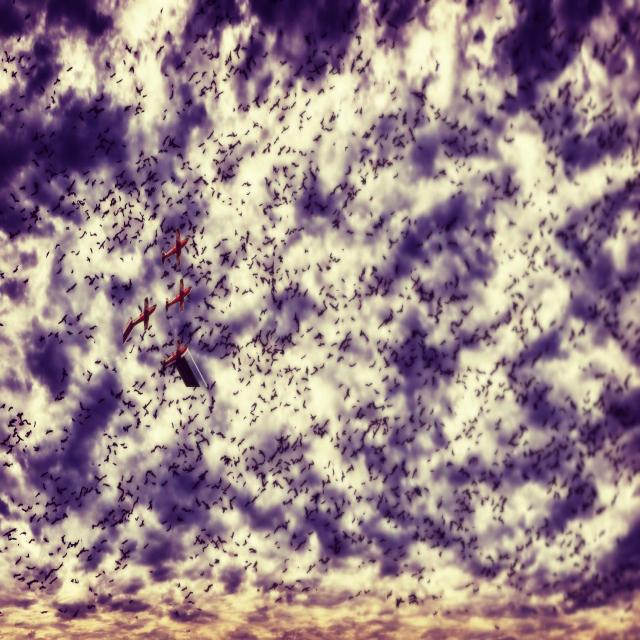airplane: (160, 342, 207, 387), (122, 296, 157, 345), (161, 227, 192, 271), (165, 278, 191, 312)
